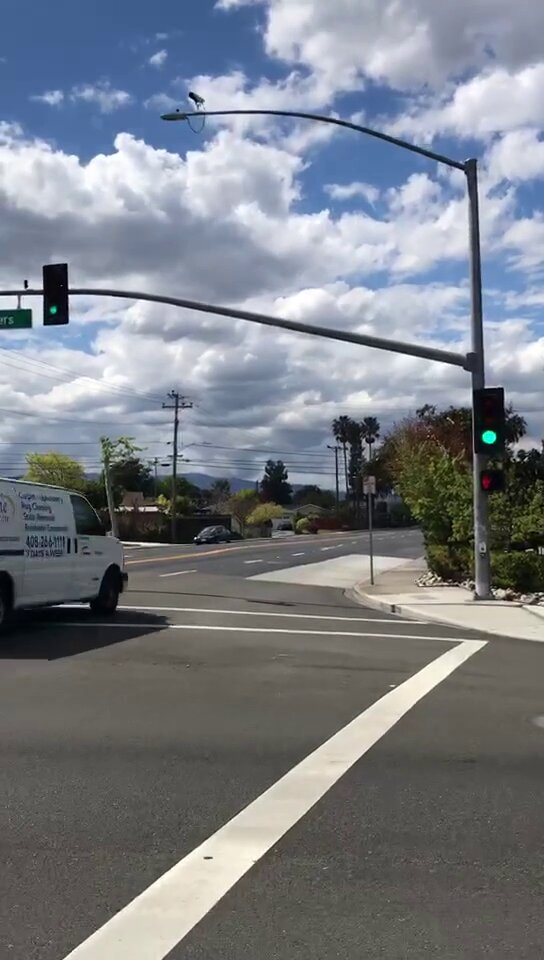green_light: (475, 389, 503, 453), (44, 267, 66, 326)
